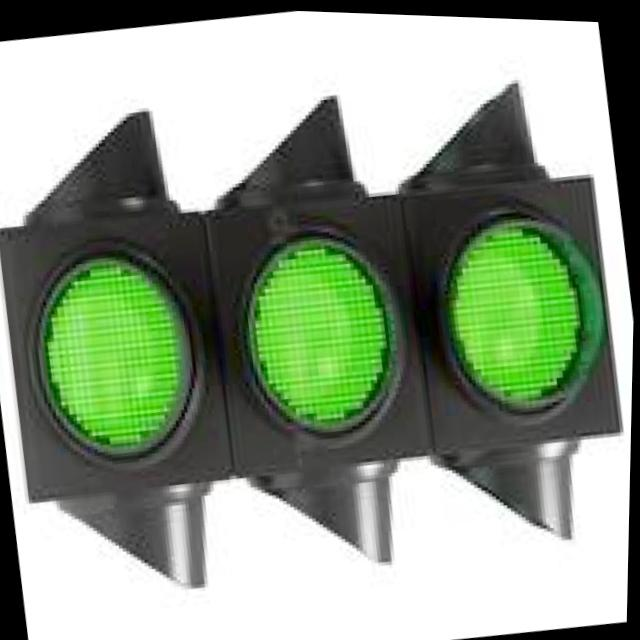green_light: (0, 157, 258, 545), (392, 114, 632, 473), (216, 165, 446, 478)
